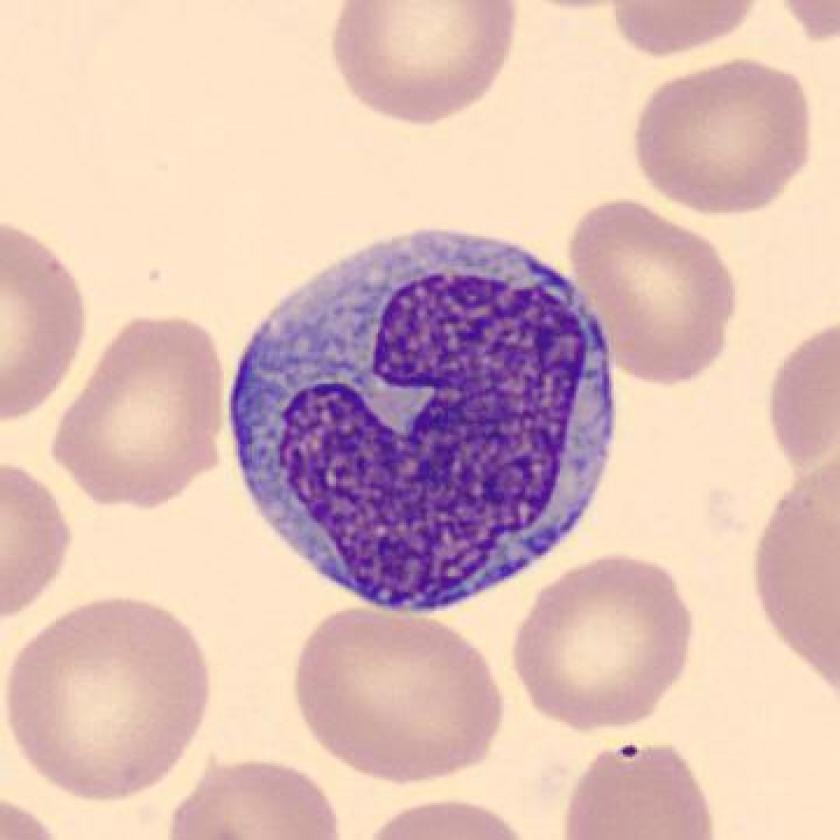monocyte: (213, 198, 631, 628)
